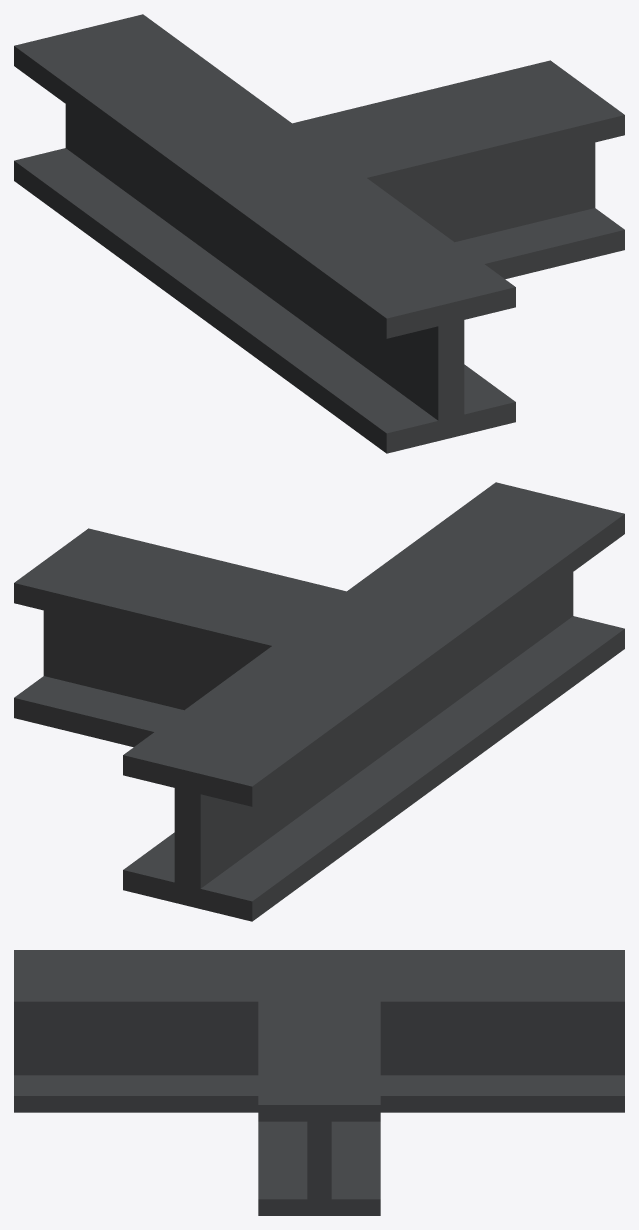
The model's file is T_Traeger_T.obj.
The picture shows the model from 3 angles, top to bottom: view 1: azimuth 30°, elevation 25°; view 2: azimuth 150°, elevation 25°; view 3: azimuth 270°, elevation 25°; orthographic projection. The views are drawn at different scales.
Visible parts, largest first — view 1: Plane.001; view 2: Plane.001; view 3: Plane.001.
Boxes of the visible parts, <box> form: Plane.001: <box>14,14,624,453</box>; Plane.001: <box>14,482,624,921</box>; Plane.001: <box>14,950,624,1215</box>.
Size of the model in its own units: 1.2 by 0.4 by 2.
1 material, 1 textured.
